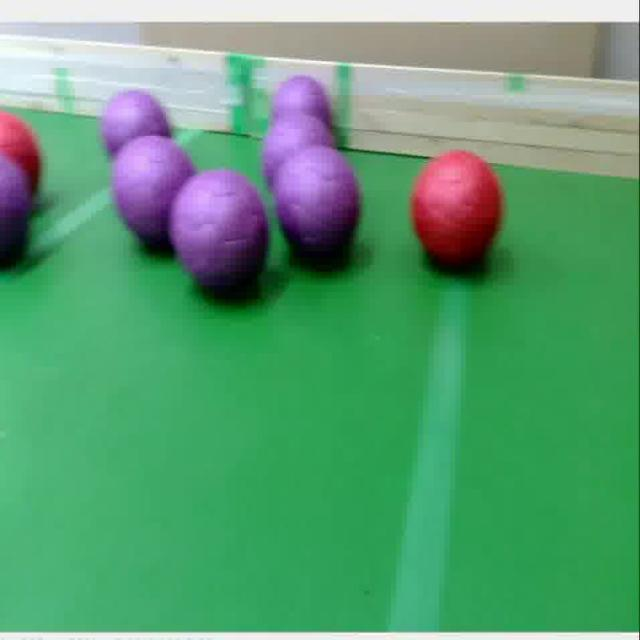purple_ball: (171, 174, 268, 298), (273, 152, 368, 266), (110, 143, 200, 252), (266, 114, 342, 204), (101, 87, 172, 159), (269, 72, 333, 132), (0, 166, 25, 273)
red_ball: (415, 154, 504, 276), (0, 109, 42, 162)
